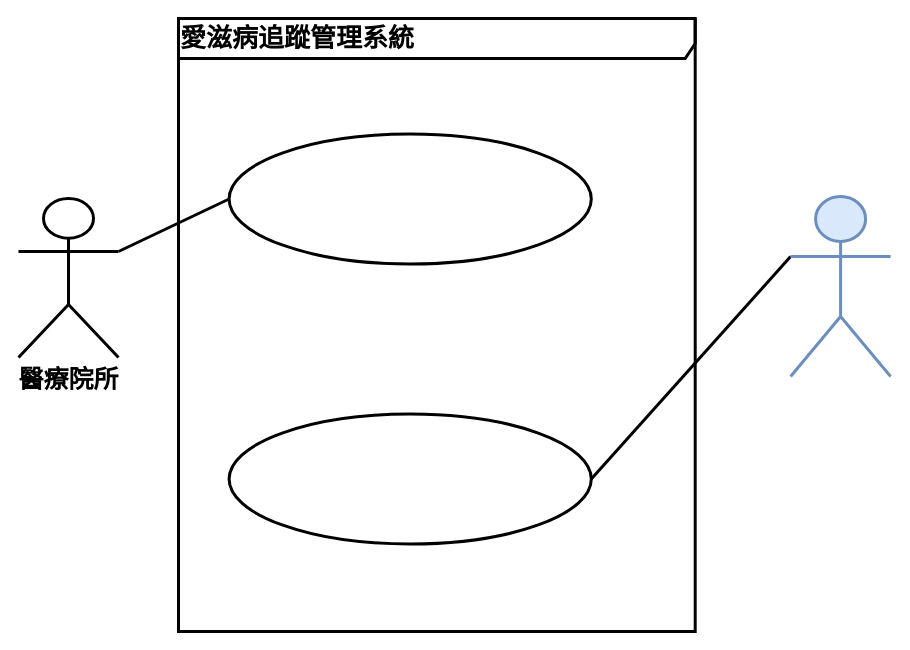
This 910x650 diagram has some shape labels left out. The centre of each missing label's shape, as x and y in pixels:
上傳 愛滋用藥通報資料: (409,198)
回報資料上傳結果: (409,478)
